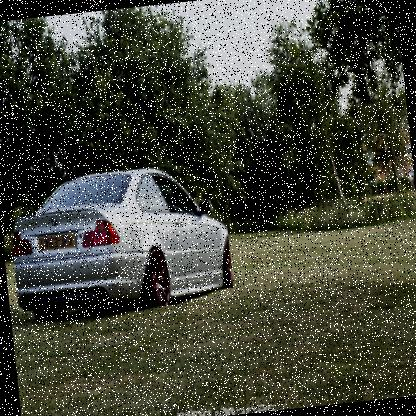Car: (5, 160, 235, 322)
